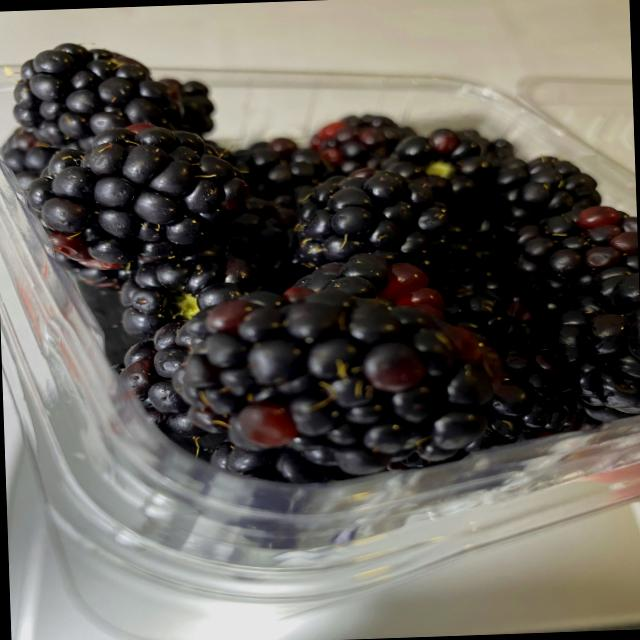blackberries: (4, 27, 636, 492)
